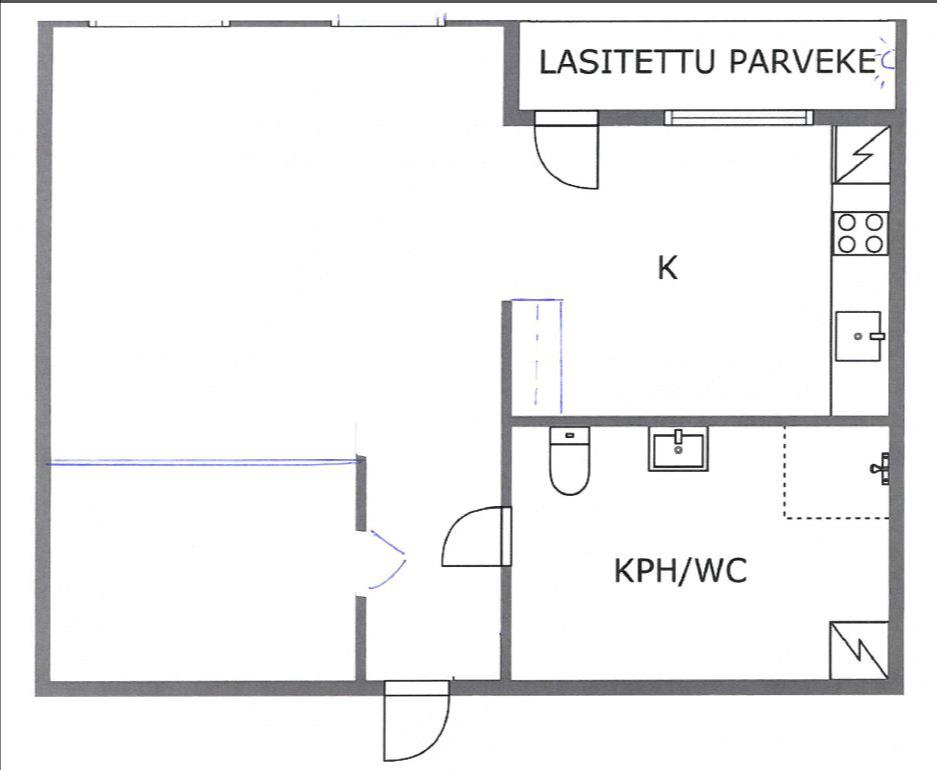bathroom: (512, 426, 886, 684)
door: (526, 103, 604, 197), (376, 674, 452, 762), (432, 502, 514, 571)
perimeter: (37, 18, 903, 697)
window: (655, 104, 823, 132), (76, 12, 237, 38), (322, 11, 452, 33)
